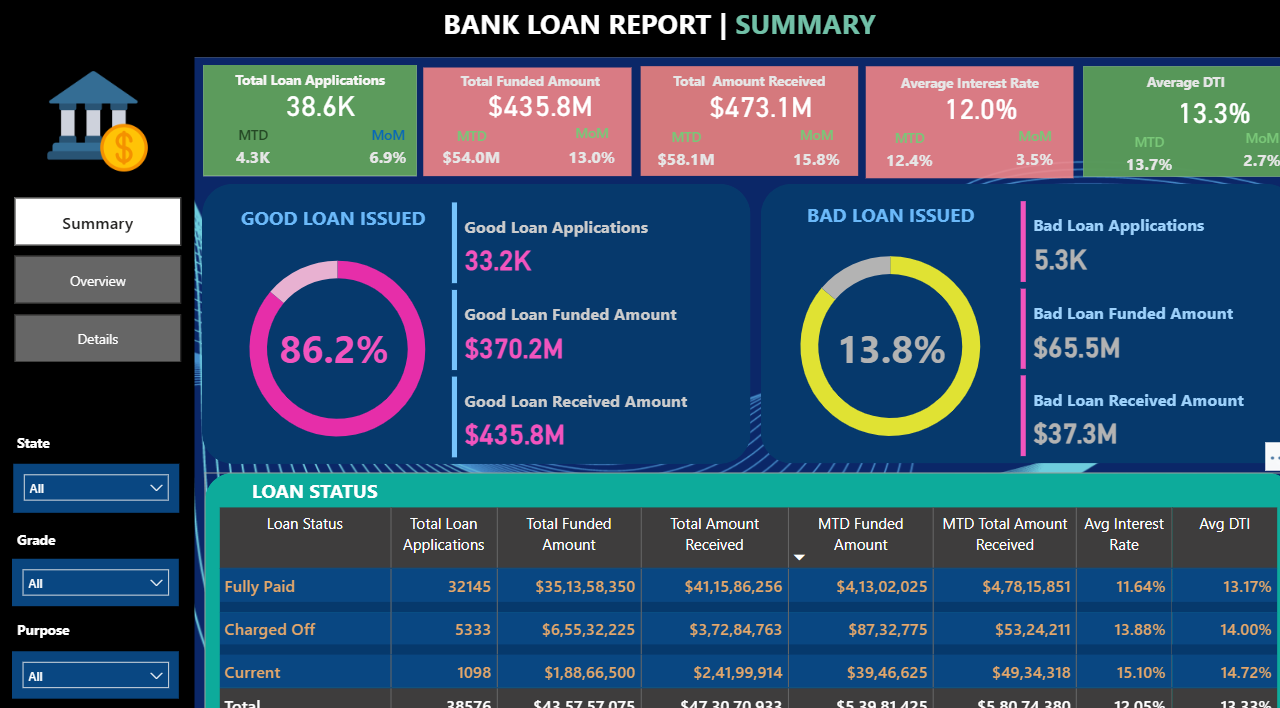

The dashboard page shown, as its layout file describes it:
{"tool":"powerbi","page":{"name":"Summary","canvas":[1280,720],"ordinal":0},"visuals":[{"type":"shape","box":[200.5,180.3,536.7,274.1],"z":0},{"type":"shape","box":[0,0,1279.7,56],"z":1000},{"type":"shape","box":[0,44,193.2,676.2],"z":2000},{"type":"shape","box":[201.2,63.8,208.8,108.4],"z":2000,"group":"g1"},{"type":"shape","box":[630,65,212.5,107.5],"z":2000,"group":"g3"},{"type":"shape","box":[850,65,203.3,109.6],"z":2000,"group":"g4"},{"type":"shape","box":[1062.8,65,209.6,108],"z":2000,"group":"g5"},{"type":"shape","box":[417.5,65.6,203.8,106.3],"z":2000,"group":"g2"},{"type":"group","id":"g1","title":"Group 1","box":[201.2,63.8,207.5,108.8],"z":3000},{"type":"group","id":"g2","title":"Group 1","box":[417.5,65,203.8,107.5],"z":4000},{"type":"card","fields":{"Values":["financial_loan.Total Loan Amount"]},"box":[222.3,82.4,188.5,39.9],"z":4000,"group":"g1"},{"type":"card","fields":{"Values":["financial_loan.Total Funded Amount"]},"box":[444.3,83.1,175.8,38.9],"z":4000,"group":"g2"},{"type":"card","fields":{"Values":["financial_loan.Total Amount Received"]},"box":[651.4,83.8,191.6,39.4],"z":4000,"group":"g3"},{"type":"card","fields":{"Values":["financial_loan.Avg Interest Rate"]},"box":[870.6,85.6,183.9,38.9],"z":4000,"group":"g4"},{"type":"card","fields":{"Values":["financial_loan.Avg DTI"]},"box":[1107.3,91.6,165.9,35.7],"z":4000,"group":"g5"},{"type":"textbox","box":[201.2,63.8,208.8,35],"z":5000,"group":"g1"},{"type":"textbox","box":[424.6,65,194.8,34.2],"z":5000,"group":"g2"},{"type":"textbox","box":[630,65.5,212.2,34.6],"z":5000,"group":"g3"},{"type":"textbox","box":[1062.5,66.5,208.8,27.2],"z":5000,"group":"g5"},{"type":"textbox","box":[850,67.5,203.7,34.2],"z":5000,"group":"g4"},{"type":"card","fields":{"Values":["financial_loan.Good Loan%"]},"box":[251.3,300.4,156.3,79.7],"z":5000},{"type":"group","id":"g3","title":"Group 1","box":[630,65,213.8,108.8],"z":6000},{"type":"card","title":"MTD","fields":{"Values":["financial_loan.MTD Loan Applications"]},"box":[222.5,122.2,56.1,50],"z":6000,"group":"g1"},{"type":"card","title":"MTD","fields":{"Values":["financial_loan.MTD Funded Amount"]},"box":[426.4,124.2,77.6,46.9],"z":6000,"group":"g2"},{"type":"card","title":"MTD","fields":{"Values":["financial_loan.MTD Total Amount Received"]},"box":[632,125.5,84.5,47.5],"z":6000,"group":"g3"},{"type":"card","title":"MTD","fields":{"Values":["financial_loan.MTD Avg Int Rate"]},"box":[851.9,126.7,81.1,46.9],"z":6000,"group":"g4"},{"type":"card","title":"MTD","fields":{"Values":["financial_loan.MTD Avg DTI"]},"box":[1090.5,129.4,73.2,43.1],"z":6000,"group":"g5"},{"type":"group","id":"g4","title":"Group 1","box":[850,65,205,110],"z":7000},{"type":"card","title":"MoM","fields":{"Values":["financial_loan.MoM Funded Amount"]},"box":[544.9,121,75.8,51.5],"z":7000,"group":"g2"},{"type":"card","title":"MoM","fields":{"Values":["financial_loan.MoM Loan Applications"]},"box":[354,122.2,56.1,50],"z":7000,"group":"g1"},{"type":"card","title":"MoM","fields":{"Values":["financial_loan.MoM Total Amount Received"]},"box":[761,122.2,82.5,52.3],"z":7000,"group":"g3"},{"type":"card","title":"MoM","fields":{"Values":["financial_loan.MoM Avg Int Rate"]},"box":[975.8,123.5,79.2,51.5],"z":7000,"group":"g4"},{"type":"card","title":"MoM","fields":{"Values":["financial_loan.MoM Avg DTI"]},"box":[1202.3,126.4,71.5,47.3],"z":7000,"group":"g5"},{"type":"group","id":"g5","title":"Group 1","box":[1062.5,65,211.2,108.8],"z":8000},{"type":"shape","box":[747.5,180,525,273.8],"z":9000},{"type":"donutChart","fields":{"Category":["financial_loan.Good vs Bad Loan"],"Y":["financial_loan.Total Loan Amount"]},"box":[207.9,228.7,250.7,225],"z":10000},{"type":"textbox","box":[214,196.2,229.9,50.9],"z":11000},{"type":"cardVisual","fields":{"Data":["financial_loan.Good Loan Applications","financial_loan.Good Loan Funded Amount","financial_loan.Good Loan Received Amount"]},"box":[440.8,193.2,285.1,260.6],"z":12000},{"type":"donutChart","fields":{"Category":["financial_loan.Good vs Bad Loan"],"Y":["financial_loan.Total Loan Amount"]},"box":[747.9,223.8,251.3,229.9],"z":13000},{"type":"textbox","box":[761.2,192.5,225,55],"z":14000},{"type":"card","fields":{"Values":["financial_loan.Bad Loan%"]},"box":[796.9,300.4,156.3,79.7],"z":15000},{"type":"cardVisual","fields":{"Data":["financial_loan.Bad Loan Applications","financial_loan.Bad Loan Funded Amount","financial_loan.Bad Loan Received Amount"]},"box":[996.2,192.5,276.2,261.2],"z":16000},{"type":"shape","box":[203.4,461.7,1067.6,258.3],"z":17000},{"type":"tableEx","fields":{"Values":["financial_loan.loan_status","financial_loan.Total Loan Applications","financial_loan.Total Funded Amount","financial_loan.Total Amount Received","financial_loan.MTD Funded Amount","financial_loan.MTD Total Amount Received","financial_loan.Avg Interest Rate","financial_loan.Avg DTI"]},"box":[212.1,492,1046,228],"z":18000},{"type":"textbox","box":[244,462,210,40],"z":19000},{"type":"slicer","fields":{"Values":["financial_loan.address_state"]},"box":[17.1,453.7,161.4,48.9],"z":20000},{"type":"textbox","box":[17.1,419.4,80.7,33],"z":21000},{"type":"slicer","fields":{"Values":["financial_loan.grade"]},"box":[17.1,546.6,161.4,46.5],"z":22000},{"type":"textbox","box":[17.1,513.6,80.7,33],"z":23000},{"type":"slicer","fields":{"Values":["financial_loan.purpose"]},"box":[17.1,637.1,161.4,46.5],"z":24000},{"type":"textbox","box":[17.1,601.6,111.3,30.6],"z":25000},{"type":"pageNavigator","box":[16.7,193.3,163.3,163.3],"z":26000},{"type":"image","box":[43.3,55,110,125],"z":27000},{"type":"textbox","box":[193.3,0,940.7,54.8],"z":28000},{"type":"textbox","box":[72.1,76.5,56.3,28.9],"z":29000},{"type":"actionButton","box":[17.1,368.1,163.9,42.8],"z":30000}]}

Visuals, with their boxes in screenshot pixels (x1, y1, x2, y2), scaled from the page's 1280x720 canvas onto the 1280x708 screenshot:
shape: x1=200 y1=177 x2=737 y2=447
shape: x1=0 y1=0 x2=1279 y2=55
shape: x1=0 y1=43 x2=193 y2=707
shape: x1=201 y1=63 x2=410 y2=169
shape: x1=630 y1=64 x2=842 y2=170
shape: x1=850 y1=64 x2=1053 y2=172
shape: x1=1063 y1=64 x2=1272 y2=170
shape: x1=418 y1=65 x2=621 y2=169
"Group 1" group: x1=201 y1=63 x2=409 y2=170
"Group 1" group: x1=418 y1=64 x2=621 y2=170
card - financial_loan.Total Loan Amount: x1=222 y1=81 x2=411 y2=120
card - financial_loan.Total Funded Amount: x1=444 y1=82 x2=620 y2=120
card - financial_loan.Total Amount Received: x1=651 y1=82 x2=843 y2=121
card - financial_loan.Avg Interest Rate: x1=871 y1=84 x2=1054 y2=122
card - financial_loan.Avg DTI: x1=1107 y1=90 x2=1273 y2=125
textbox: x1=201 y1=63 x2=410 y2=97
textbox: x1=425 y1=64 x2=619 y2=98
textbox: x1=630 y1=64 x2=842 y2=98
textbox: x1=1062 y1=65 x2=1271 y2=92
textbox: x1=850 y1=66 x2=1054 y2=100
card - financial_loan.Good Loan%: x1=251 y1=295 x2=408 y2=374
"Group 1" group: x1=630 y1=64 x2=844 y2=171
"MTD" card: x1=222 y1=120 x2=279 y2=169
"MTD" card: x1=426 y1=122 x2=504 y2=168
"MTD" card: x1=632 y1=123 x2=716 y2=170
"MTD" card: x1=852 y1=125 x2=933 y2=171
"MTD" card: x1=1090 y1=127 x2=1164 y2=170
"Group 1" group: x1=850 y1=64 x2=1055 y2=172
"MoM" card: x1=545 y1=119 x2=621 y2=170
"MoM" card: x1=354 y1=120 x2=410 y2=169
"MoM" card: x1=761 y1=120 x2=844 y2=172
"MoM" card: x1=976 y1=121 x2=1055 y2=172
"MoM" card: x1=1202 y1=124 x2=1274 y2=171
"Group 1" group: x1=1062 y1=64 x2=1274 y2=171
shape: x1=748 y1=177 x2=1272 y2=446
donutChart - financial_loan.Good vs Bad Loan x financial_loan.Total Loan Amount: x1=208 y1=225 x2=459 y2=446
textbox: x1=214 y1=193 x2=444 y2=243
cardVisual - financial_loan.Good Loan Applications x financial_loan.Good Loan Funded Amount: x1=441 y1=190 x2=726 y2=446
donutChart - financial_loan.Good vs Bad Loan x financial_loan.Total Loan Amount: x1=748 y1=220 x2=999 y2=446
textbox: x1=761 y1=189 x2=986 y2=243
card - financial_loan.Bad Loan%: x1=797 y1=295 x2=953 y2=374
cardVisual - financial_loan.Bad Loan Applications x financial_loan.Bad Loan Funded Amount: x1=996 y1=189 x2=1272 y2=446
shape: x1=203 y1=454 x2=1271 y2=707
tableEx - financial_loan.loan_status x financial_loan.Total Loan Applications: x1=212 y1=484 x2=1258 y2=707
textbox: x1=244 y1=454 x2=454 y2=494
slicer - financial_loan.address_state: x1=17 y1=446 x2=178 y2=494
textbox: x1=17 y1=412 x2=98 y2=445
slicer - financial_loan.grade: x1=17 y1=537 x2=178 y2=583
textbox: x1=17 y1=505 x2=98 y2=537
slicer - financial_loan.purpose: x1=17 y1=626 x2=178 y2=672
textbox: x1=17 y1=592 x2=128 y2=622
pageNavigator: x1=17 y1=190 x2=180 y2=351
image: x1=43 y1=54 x2=153 y2=177
textbox: x1=193 y1=0 x2=1134 y2=54
textbox: x1=72 y1=75 x2=128 y2=104
actionButton: x1=17 y1=362 x2=181 y2=404
